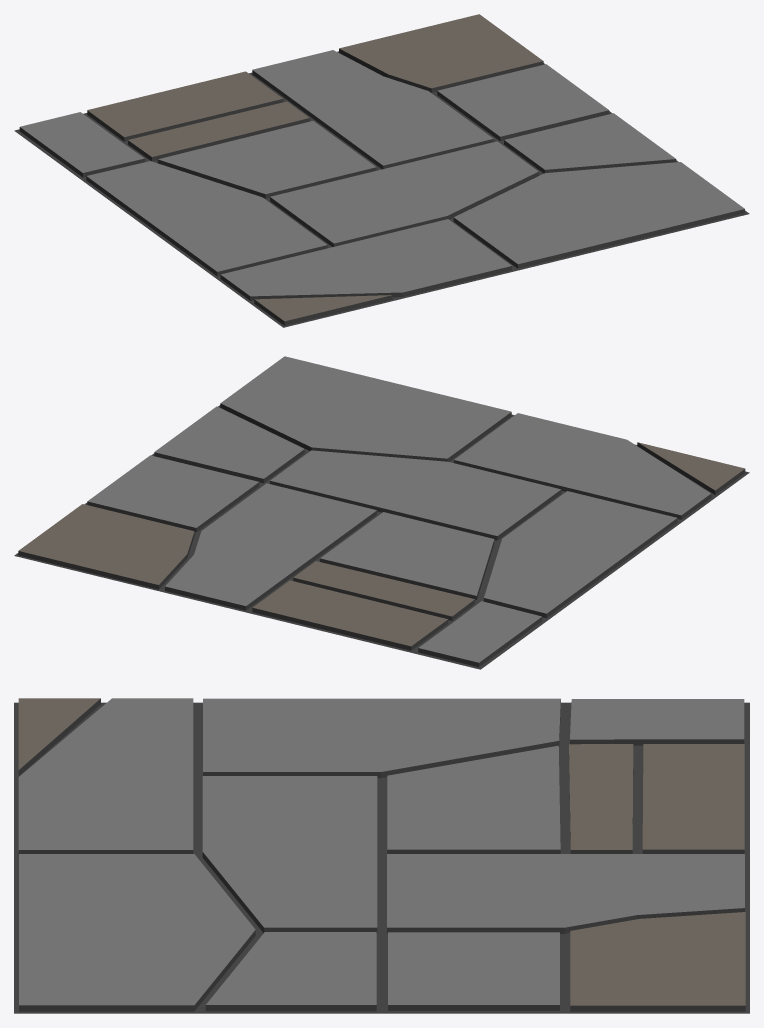
File: Walkway Modern A.fbx
3 views of the same model, one above another, from view 1: azimuth 30°, elevation 25°; view 2: azimuth 150°, elevation 25°; view 3: azimuth 270°, elevation 25° (orthographic). The views are drawn at different scales.
Parts seen in each view (by area): view 1: Walkway Modern A.001; view 2: Walkway Modern A.001; view 3: Walkway Modern A.001.
Part boxes in pixels (x1,y1,x2,y2): Walkway Modern A.001: (14, 14, 749, 327); Walkway Modern A.001: (14, 356, 749, 669); Walkway Modern A.001: (14, 698, 749, 1013).
Bounding box in the file's own units: 305 × 305 × 2.83.
